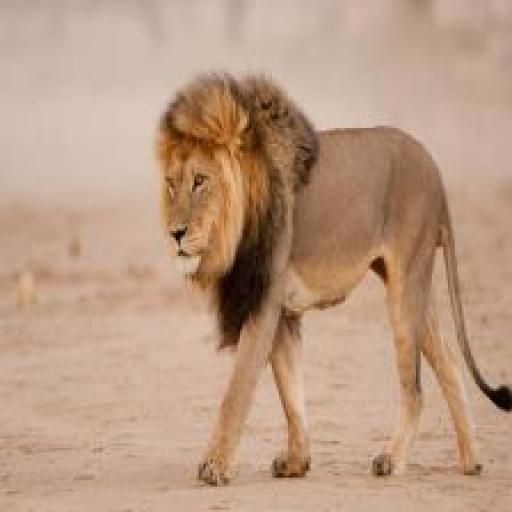lion: (153, 82, 512, 510)
